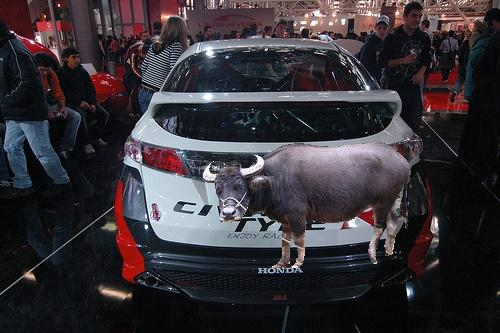tampered: (204, 143, 411, 268)
